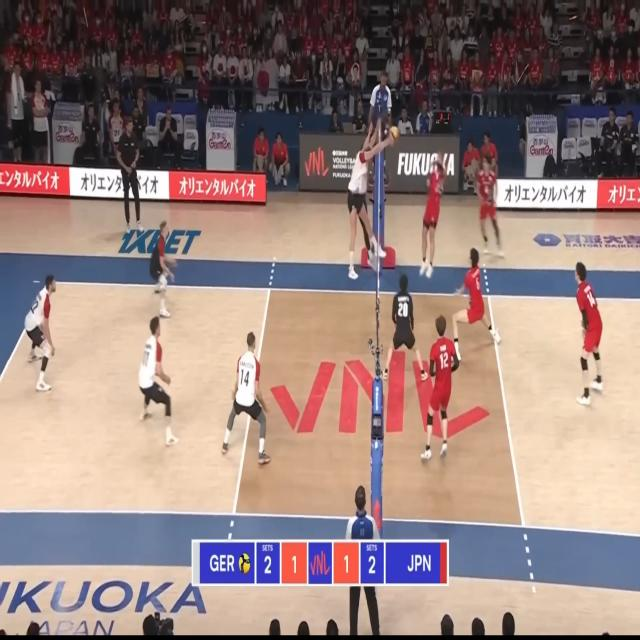ball: (390, 126, 400, 142)
